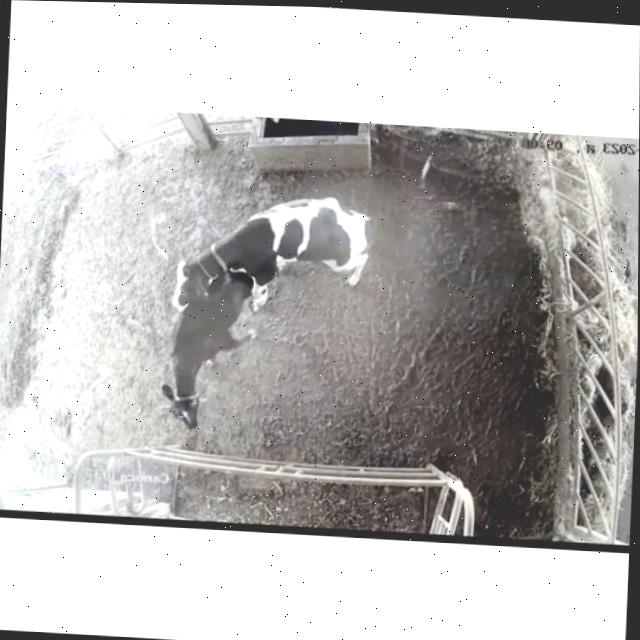ride: (158, 184, 385, 319)
stand: (152, 261, 251, 438)
